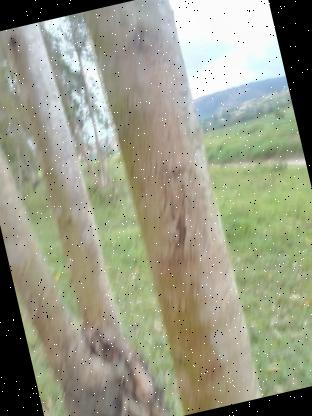tree: (73, 0, 271, 416), (0, 14, 163, 416)
